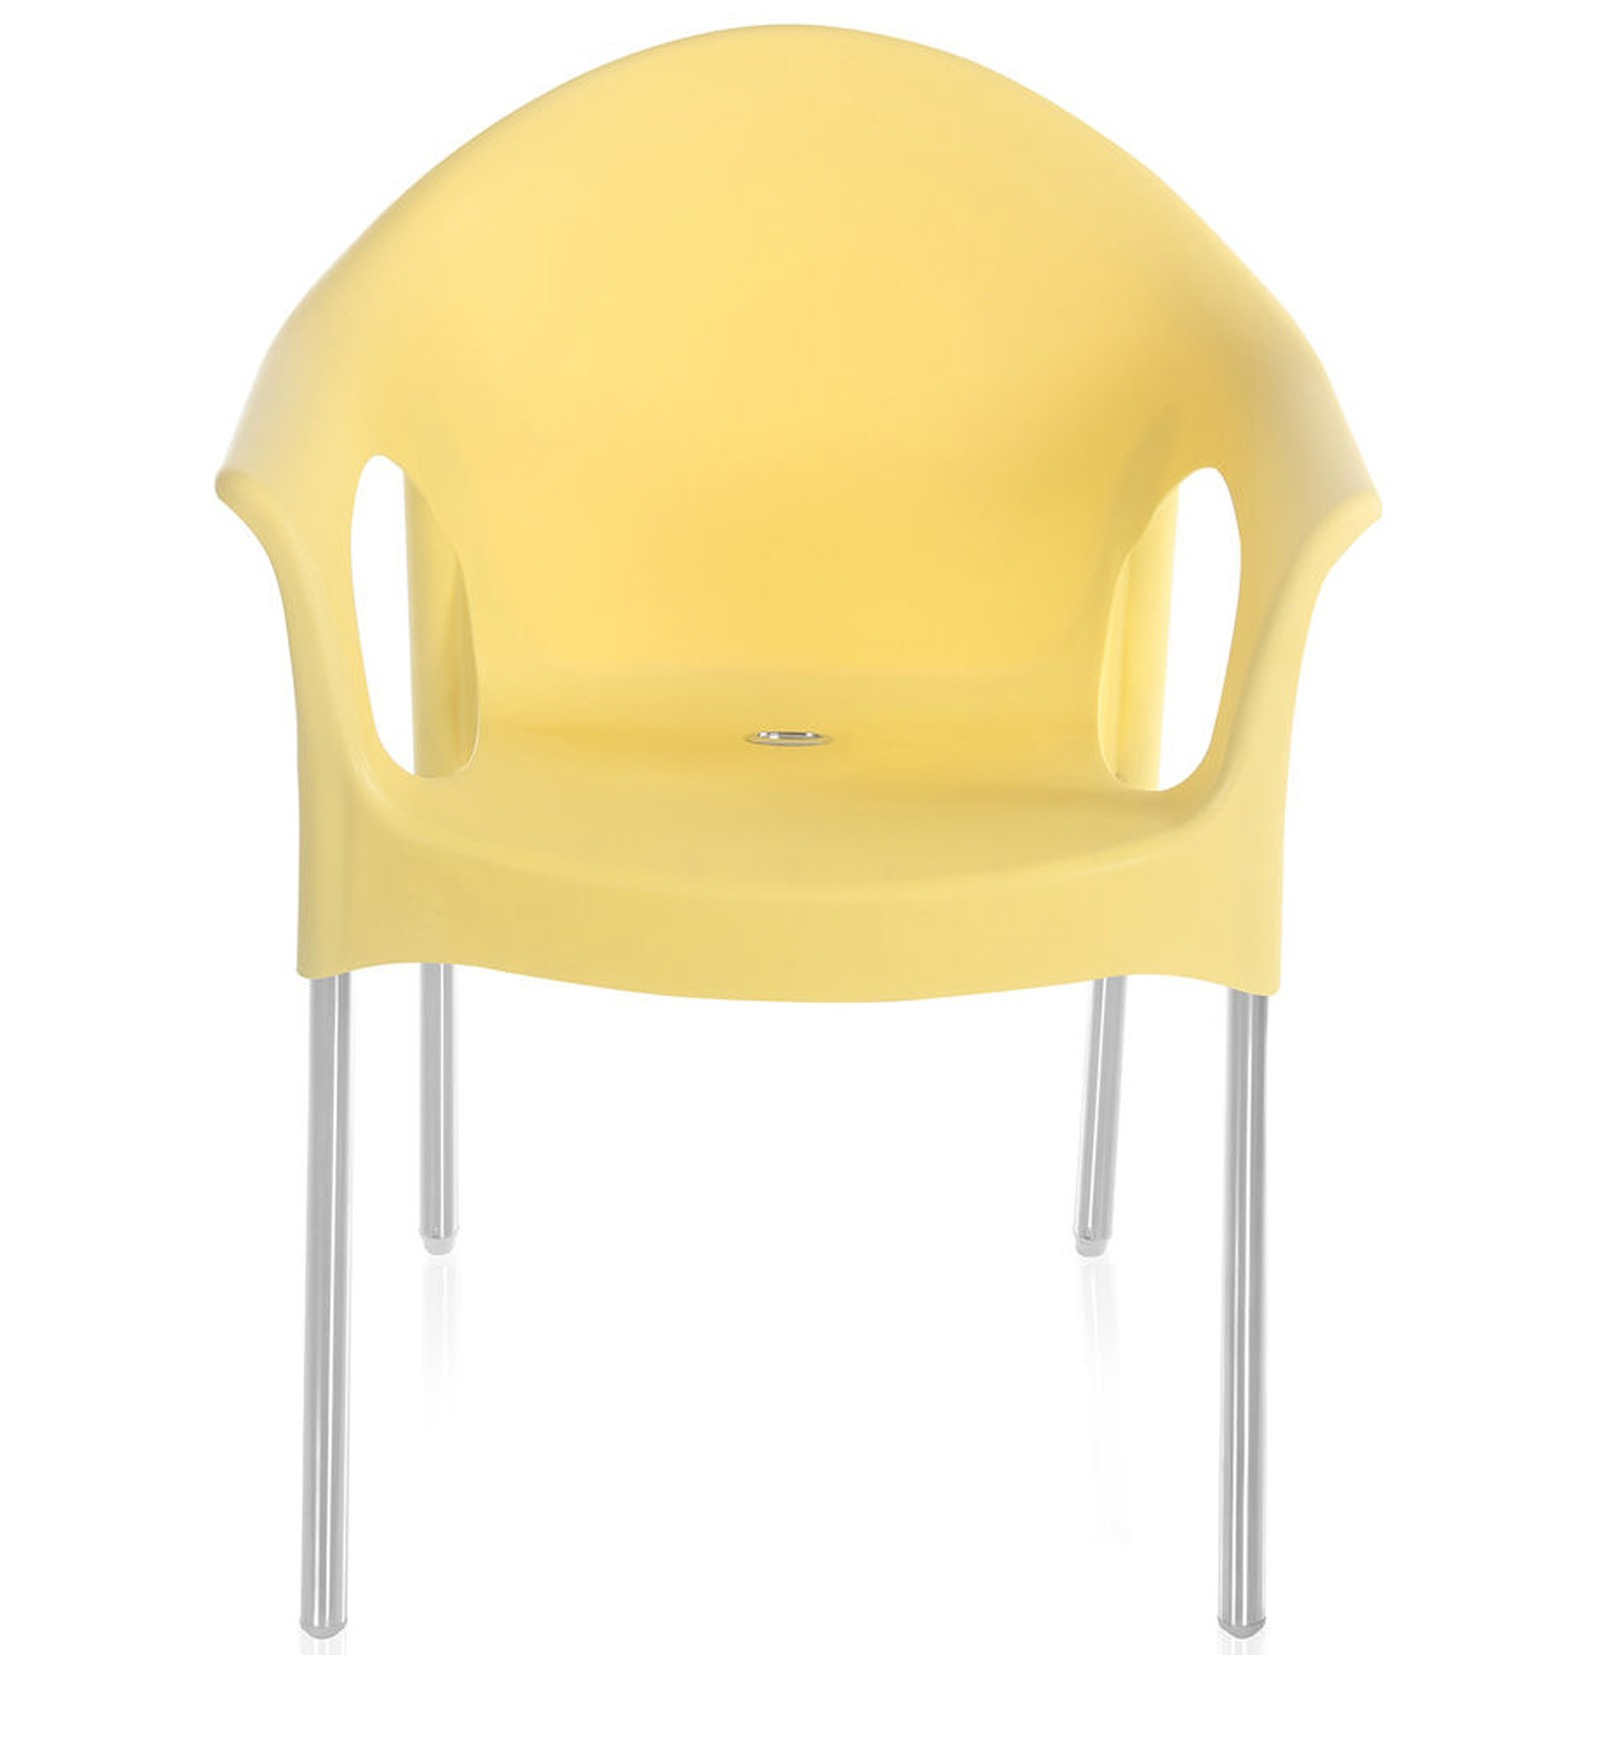Novella 09 Stainless Steel Chair in Yellow Colour by Nilkamal: (201, 18, 1375, 1645)
